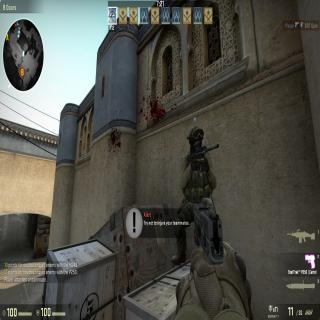CT-Body: (173, 126, 220, 267)
CT-Head: (189, 123, 203, 155)
